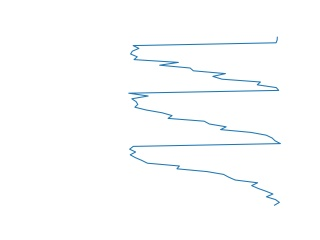distributaryMouthBar: (125, 33, 288, 209)
